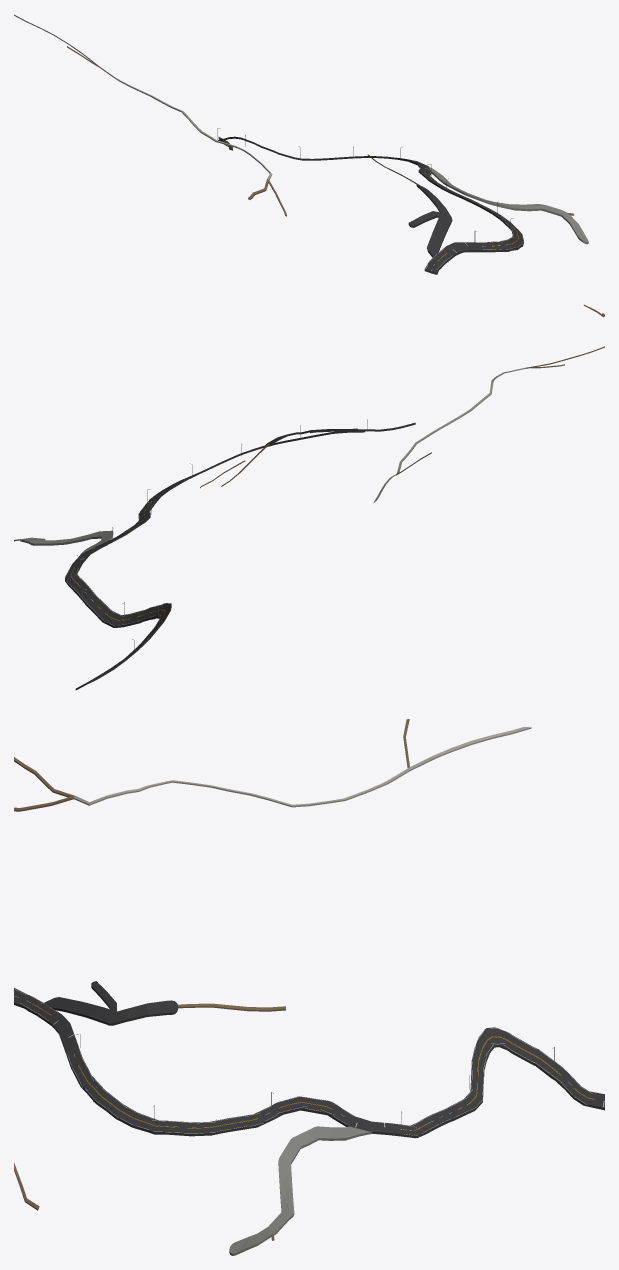
3 views of the same model, one above another, from view 1: azimuth 30°, elevation 25°; view 2: azimuth 150°, elevation 25°; view 3: azimuth 270°, elevation 25° (orthographic). The views are drawn at different scales.
Bounding box in the file's own units: 293 × 156 × 292.
